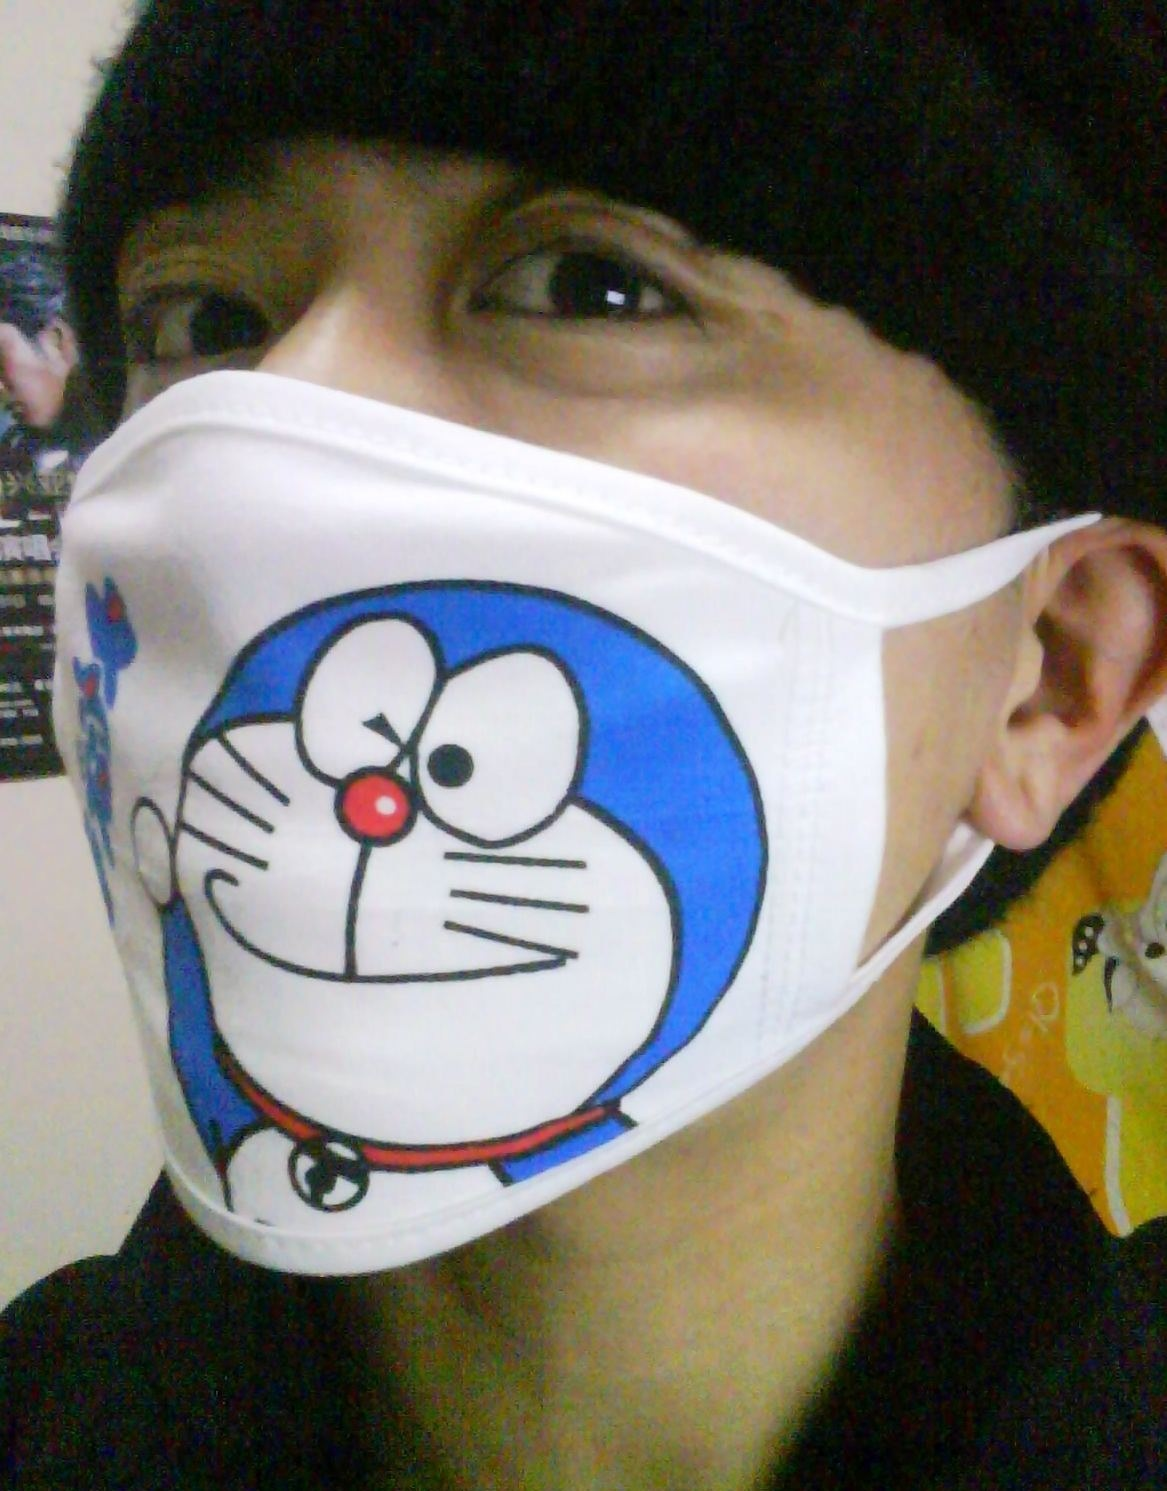face_mask: (55, 1, 943, 1281)
